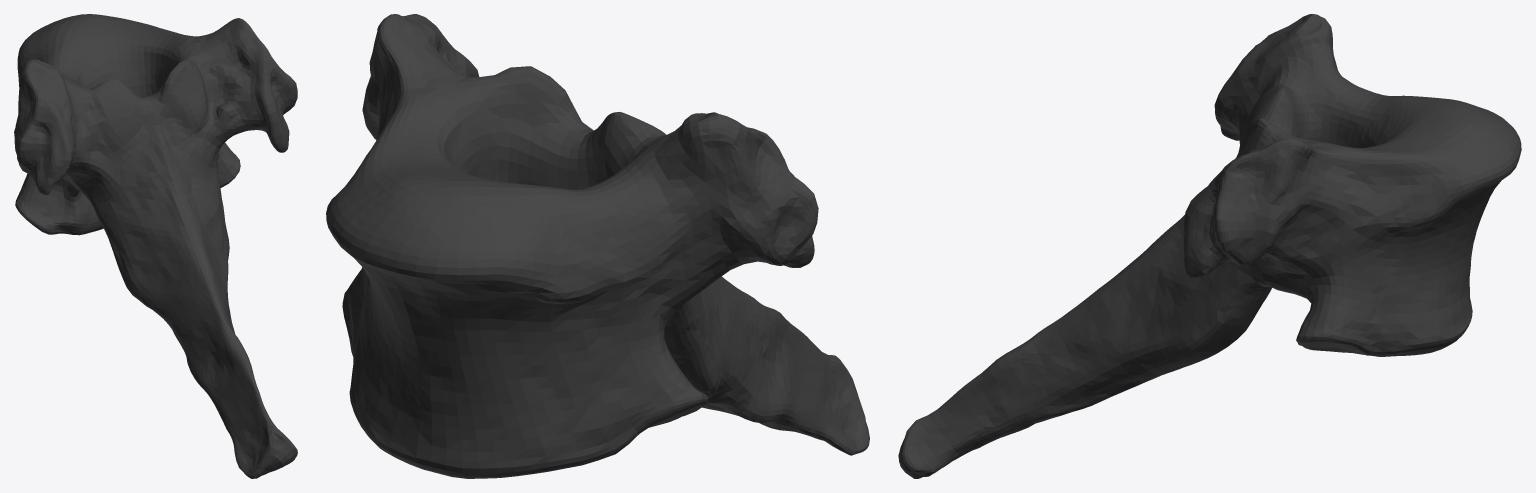
3 views of the same model, side by side, from view 1: azimuth 30°, elevation 25°; view 2: azimuth 150°, elevation 25°; view 3: azimuth 270°, elevation 25° (orthographic). The views are drawn at different scales.
Visible parts, largest first — view 1: t9_low; view 2: t9_low; view 3: t9_low.
Part boxes in pixels (x1,y1,x2,y2): t9_low: (14, 14, 297, 478); t9_low: (326, 14, 869, 478); t9_low: (898, 14, 1521, 478).
Size of the model in its own units: 35.7 by 41.46 by 56.64.
Materials: 1 (1 with a texture image).
